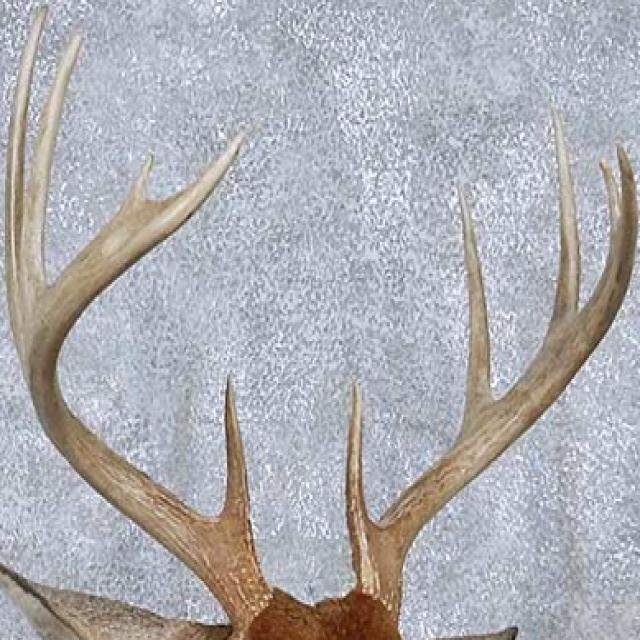L-E1: (598, 157, 621, 247)
L-F: (351, 145, 638, 624)
L-G1: (345, 379, 377, 554)
L-G2: (460, 193, 497, 436)
L-G3: (546, 111, 581, 339)
R-E1: (119, 152, 154, 211)
R-F: (27, 129, 273, 635)
R-G1: (218, 378, 253, 542)
R-G2: (4, 5, 51, 384)
R-G3: (23, 31, 85, 324)
